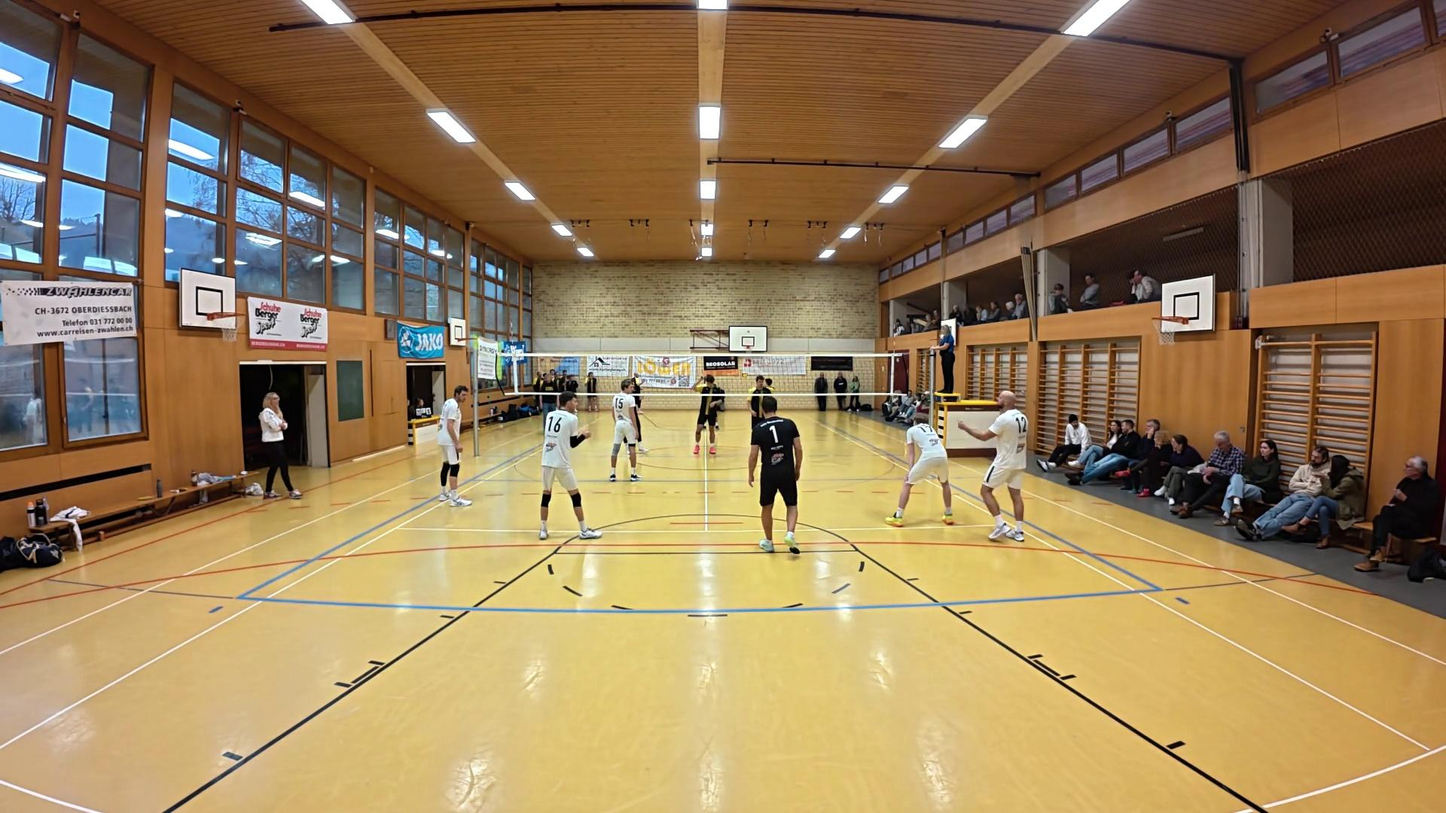Player: (954, 389, 1030, 543), (538, 391, 599, 540), (749, 391, 802, 553), (888, 403, 954, 528), (434, 385, 469, 507), (606, 379, 642, 483), (692, 373, 725, 457), (746, 375, 776, 456), (619, 374, 647, 455), (690, 379, 725, 432), (628, 372, 647, 416), (761, 376, 779, 421)
ball: (995, 386, 1018, 408)
